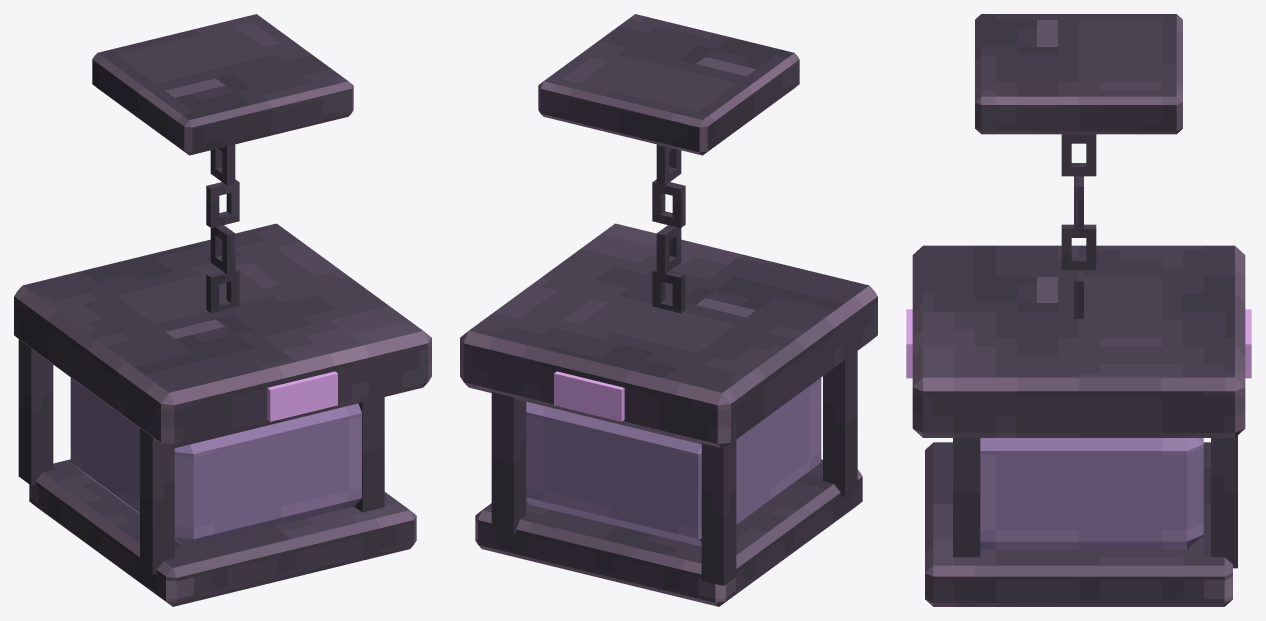
Rendered from uv_pendant.obj.
3 renders of one model, left to right at view 1: azimuth 30°, elevation 25°; view 2: azimuth 150°, elevation 25°; view 3: azimuth 270°, elevation 25°, orthographic. The views are drawn at different scales.
Visible parts, largest first — view 1: model; view 2: model; view 3: model.
Boxes of the visible parts, x1=… form: model: x1=14, y1=14, x2=431, y2=606; model: x1=460, y1=14, x2=877, y2=606; model: x1=906, y1=14, x2=1251, y2=606.
Bounding box in the file's own units: 0.5 × 0.875 × 0.5187.
